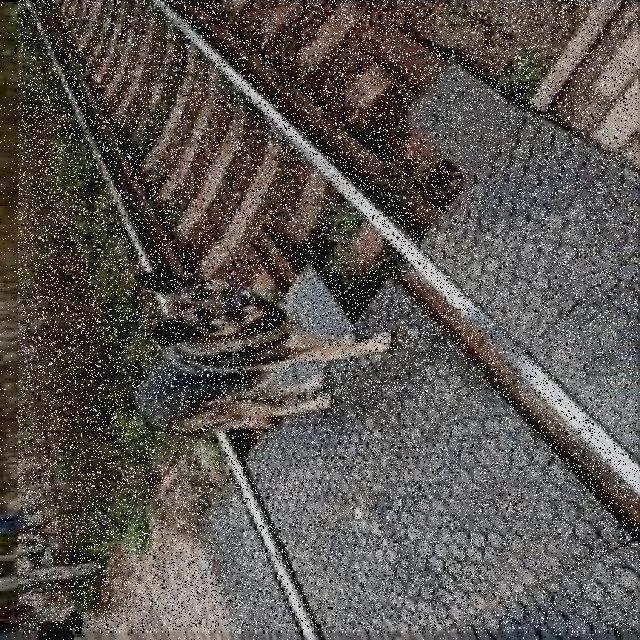rail: (19, 1, 639, 633)
